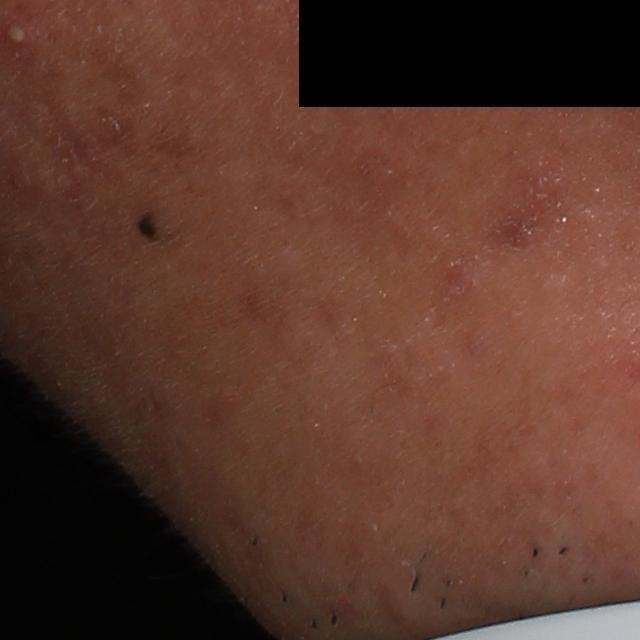nevus: (133, 210, 160, 240)
